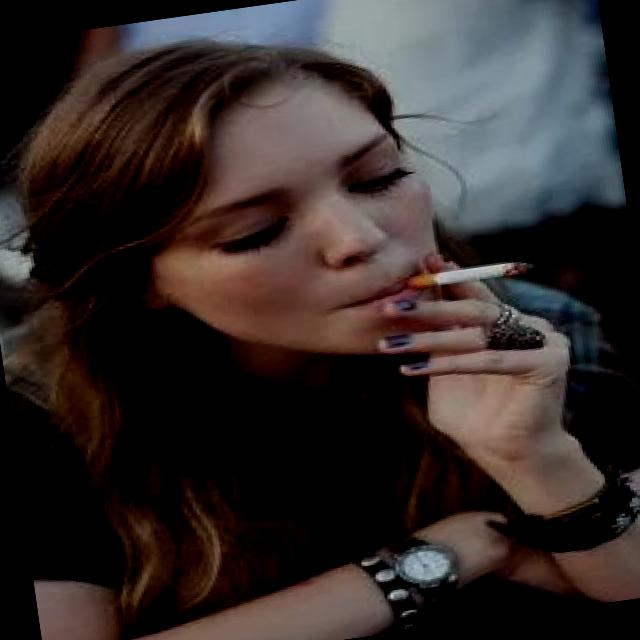cigarette: (384, 248, 546, 302)
